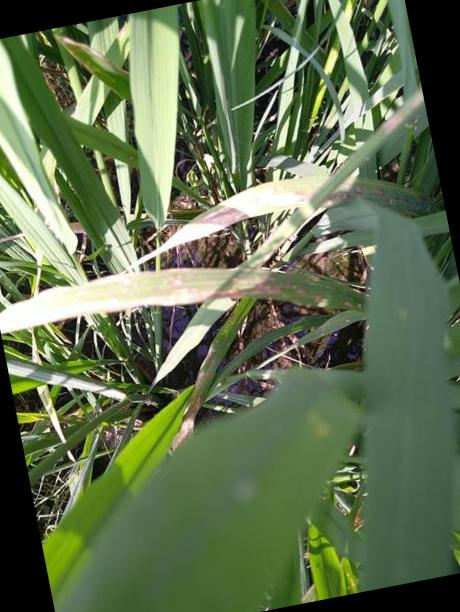Leaf Streak: (0, 272, 365, 335), (132, 171, 332, 268), (168, 296, 256, 456), (320, 170, 438, 217), (54, 35, 132, 101)
